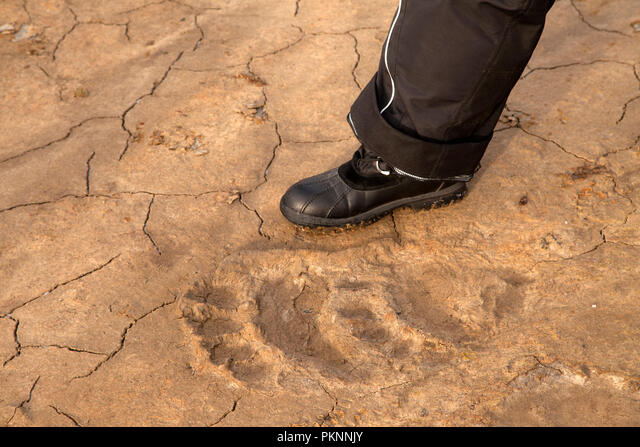bear: (163, 235, 552, 387)
